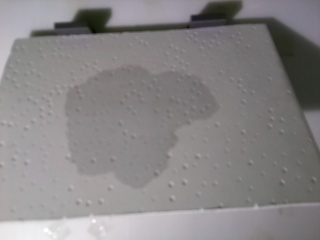Water_detected: (84, 82, 203, 179)
